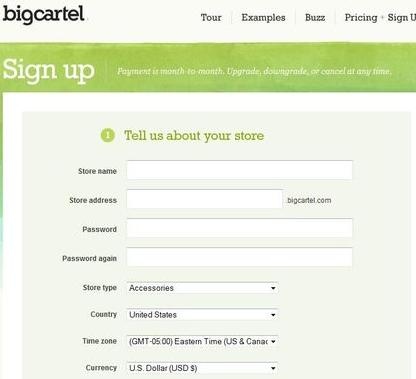field: (123, 216, 356, 241), (123, 159, 355, 182), (122, 246, 356, 268), (123, 188, 287, 209), (123, 280, 281, 298), (122, 334, 280, 352), (124, 306, 282, 323), (122, 361, 283, 377)
field_with_label: (83, 214, 358, 243), (61, 245, 357, 270), (76, 159, 360, 184), (70, 187, 290, 211), (81, 278, 283, 300), (82, 332, 282, 353), (90, 305, 284, 325), (85, 360, 284, 379)
